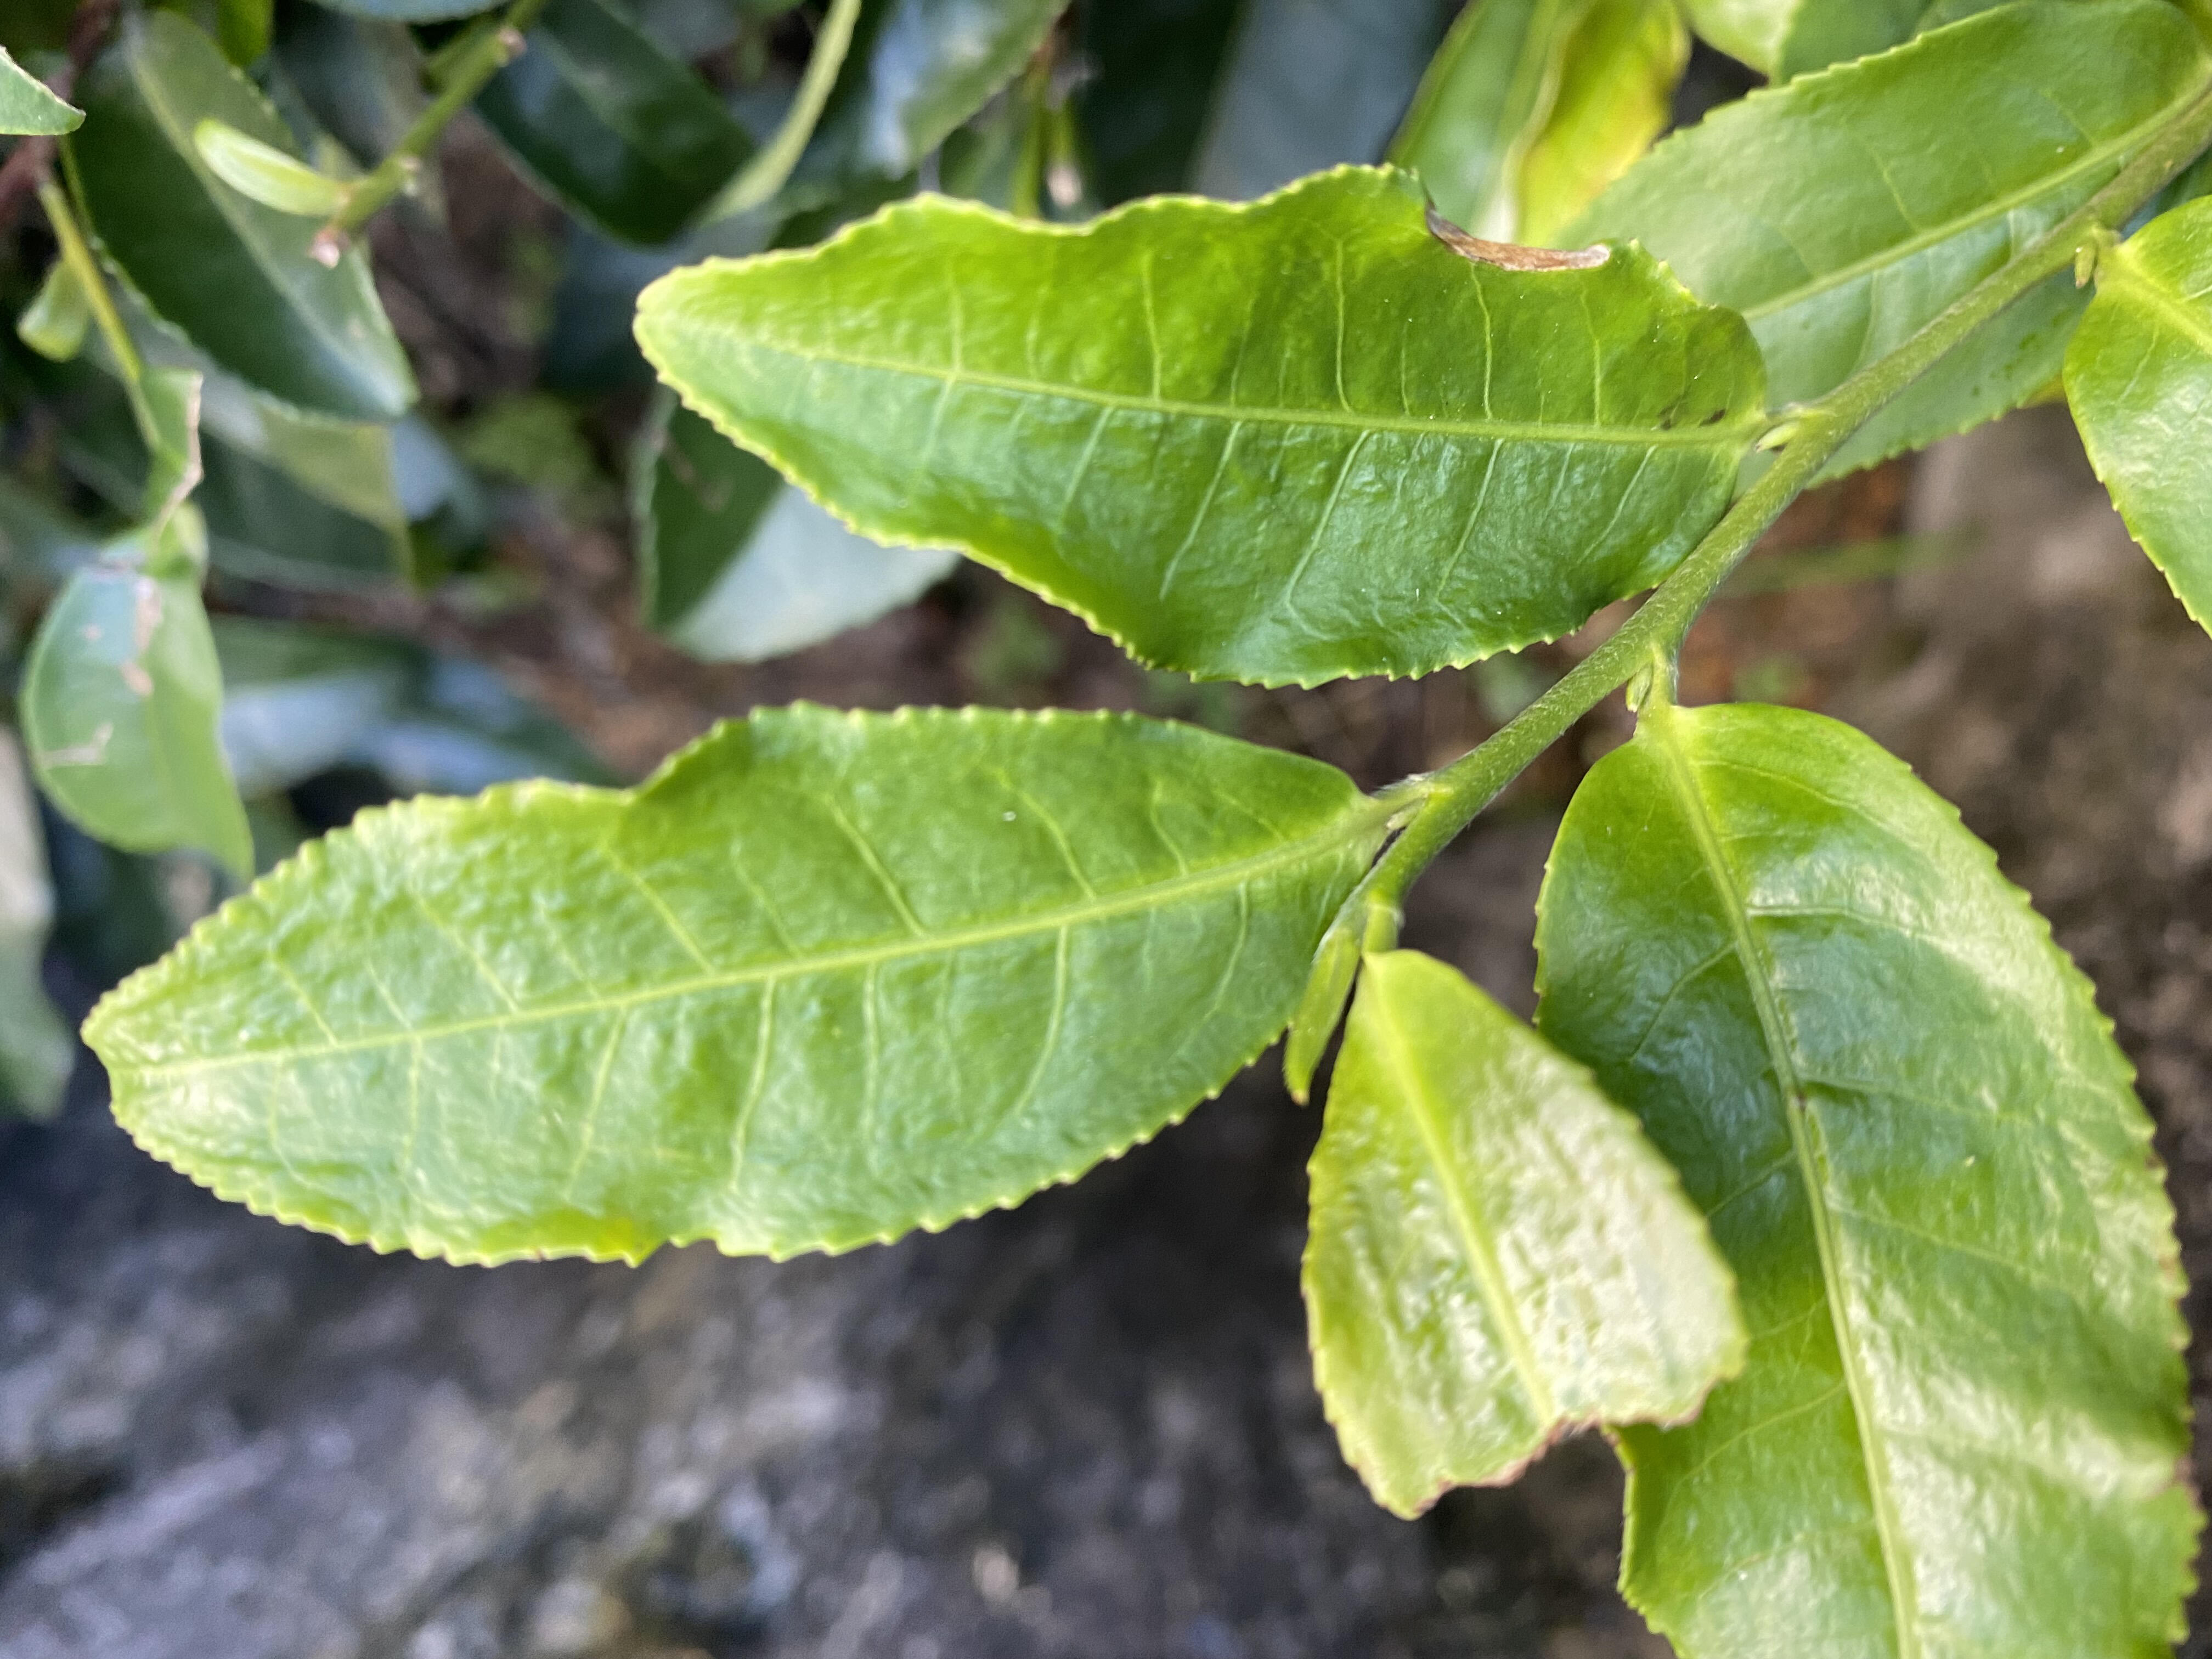chihuo_high: (1299, 946, 1750, 1521)
healthy: (73, 701, 1379, 1272)
tanju_high: (629, 157, 1773, 692)
